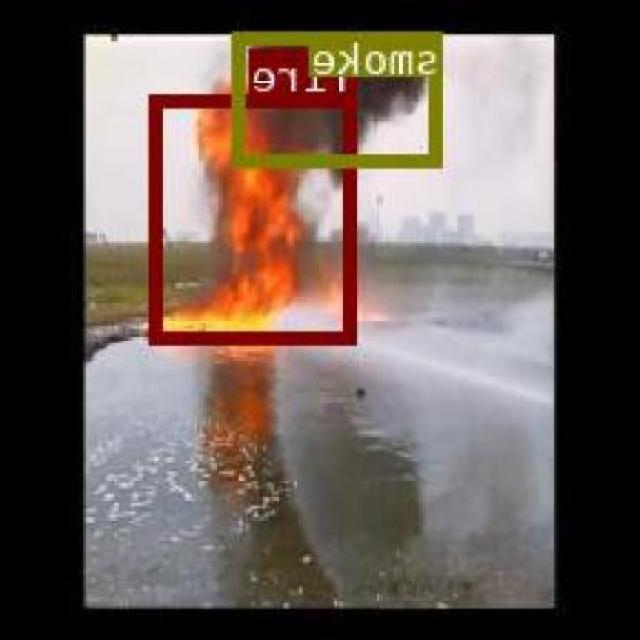Fire: (154, 91, 358, 342)
Smoke: (237, 31, 445, 166)
